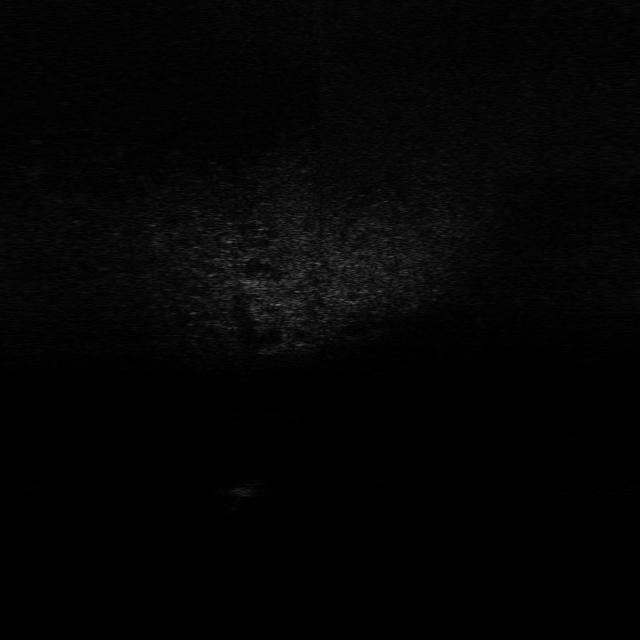cylinder: (228, 478, 262, 500)
